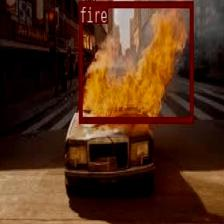fire: (78, 1, 193, 121)
